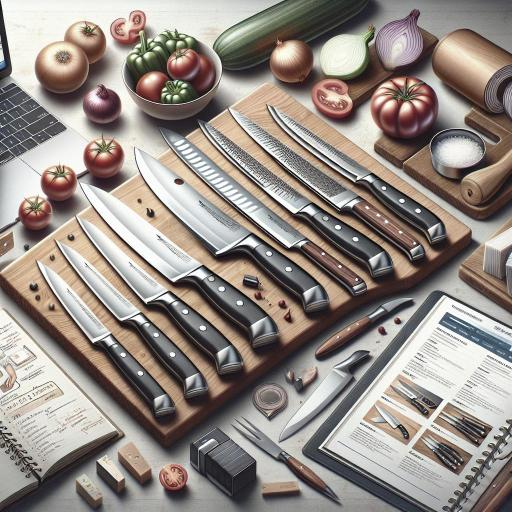knife: (115, 145, 340, 327)
